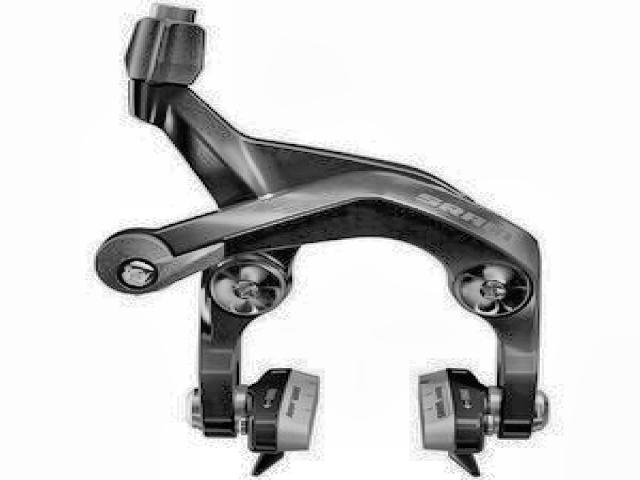rim_brake: (93, 6, 557, 478)
